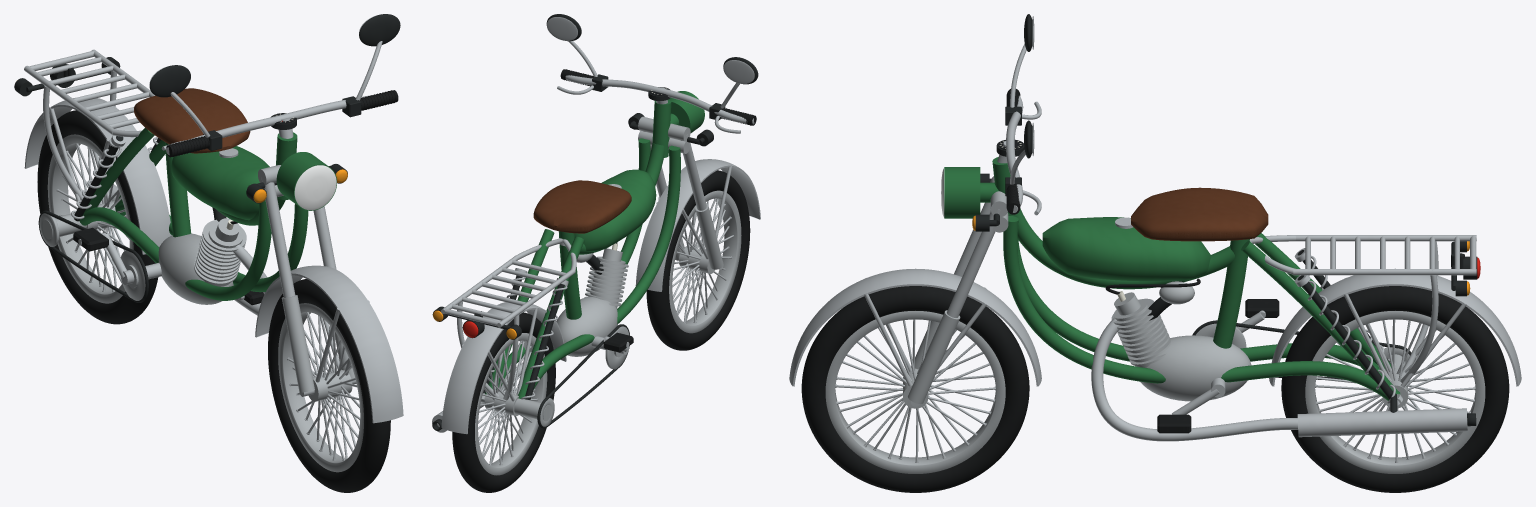
Rendered from moped.glb.
3 views of the same model, side by side, from view 1: azimuth 30°, elevation 25°; view 2: azimuth 150°, elevation 25°; view 3: azimuth 270°, elevation 25° (orthographic). The views are drawn at different scales.
Parts seen in each view (by area): view 1: body, wheel-front, wheel-rear; view 2: body, wheel-front, wheel-rear; view 3: body, wheel-front, wheel-rear.
Boxes of the visible parts, x1,y1,x2,y2 form: body: (14, 14, 403, 423); wheel-front: (268, 279, 390, 492); wheel-rear: (37, 110, 158, 324); body: (432, 14, 760, 434); wheel-front: (646, 170, 750, 350); wheel-rear: (452, 312, 555, 492); body: (789, 14, 1521, 441); wheel-front: (801, 286, 1029, 492); wheel-rear: (1281, 286, 1509, 492).
Bounding box in the file's own units: 0.754 × 1.16 × 1.83.
Materials: 13 (13 with a texture image).
